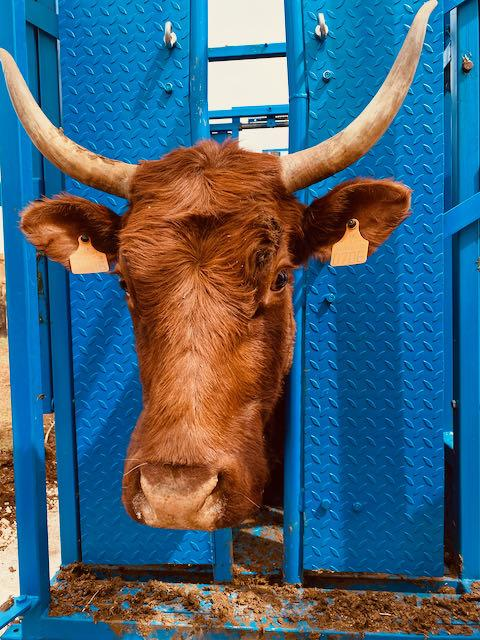muzzles: (123, 457, 240, 532)
